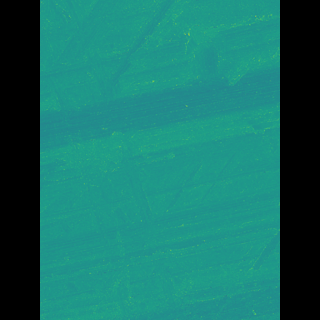Loch: (69, 0, 178, 320), (175, 0, 249, 91)
